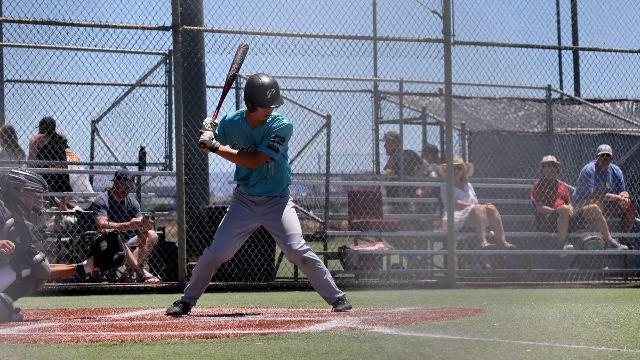bat: (213, 43, 251, 120)
